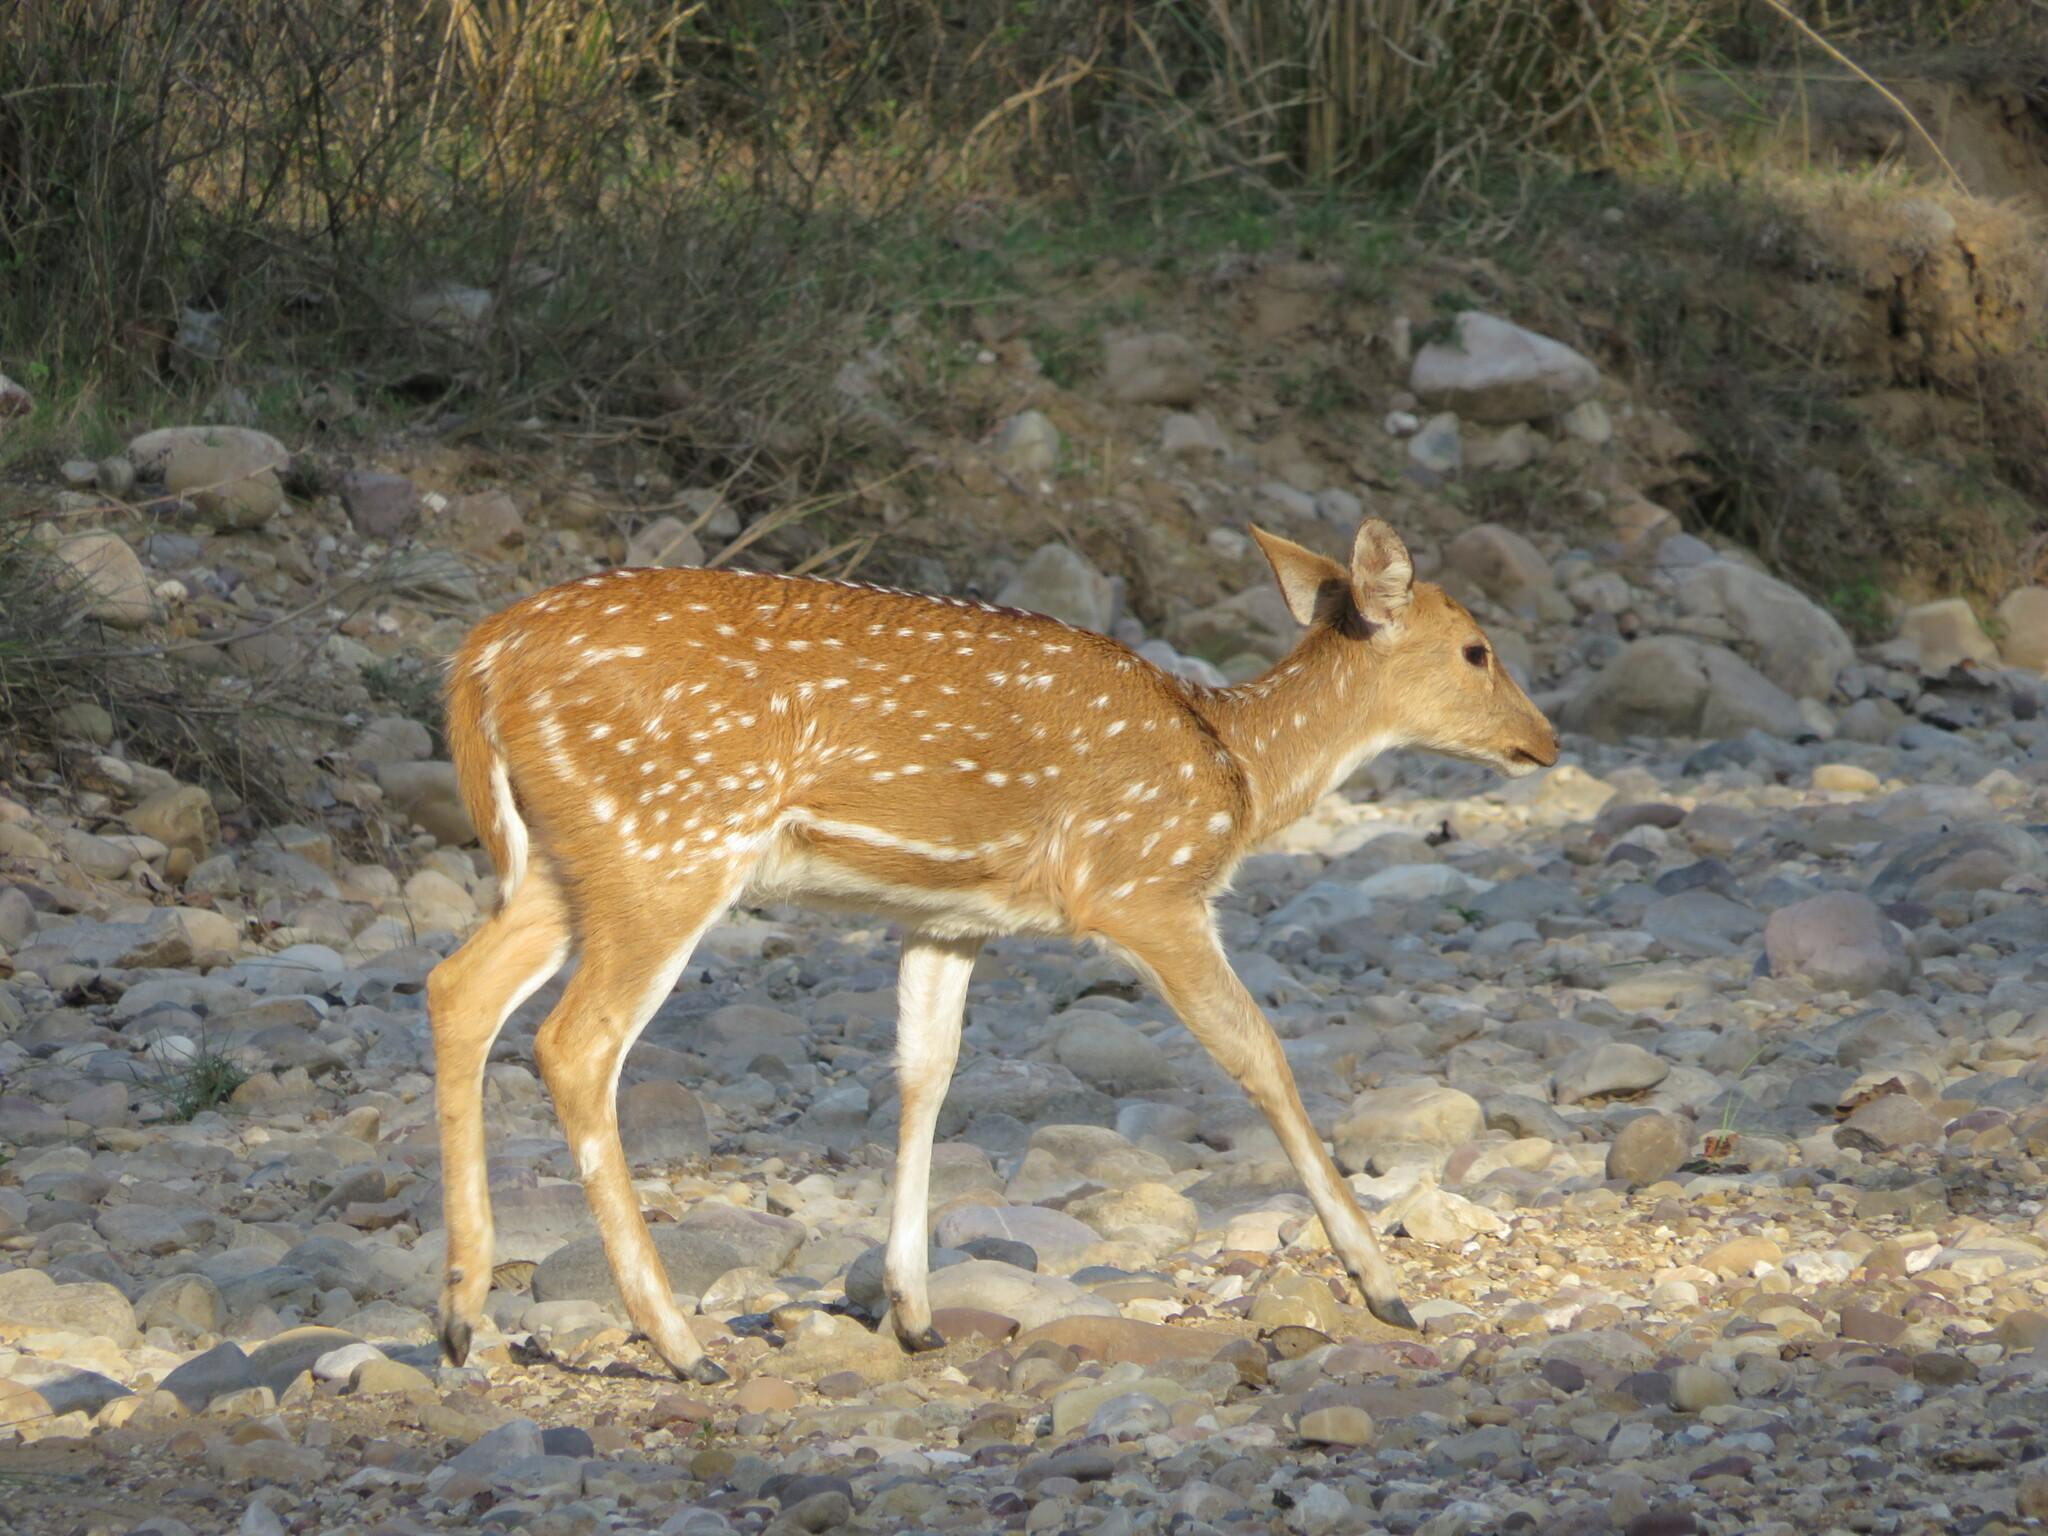Deer: (429, 520, 1555, 1370)
